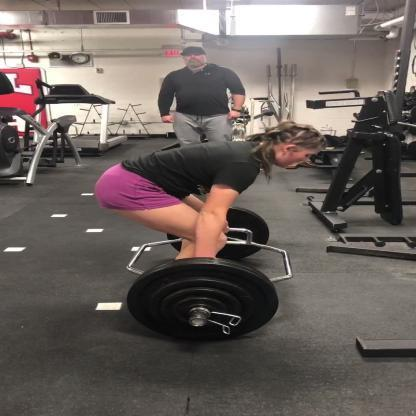barbell: (128, 200, 295, 349)
